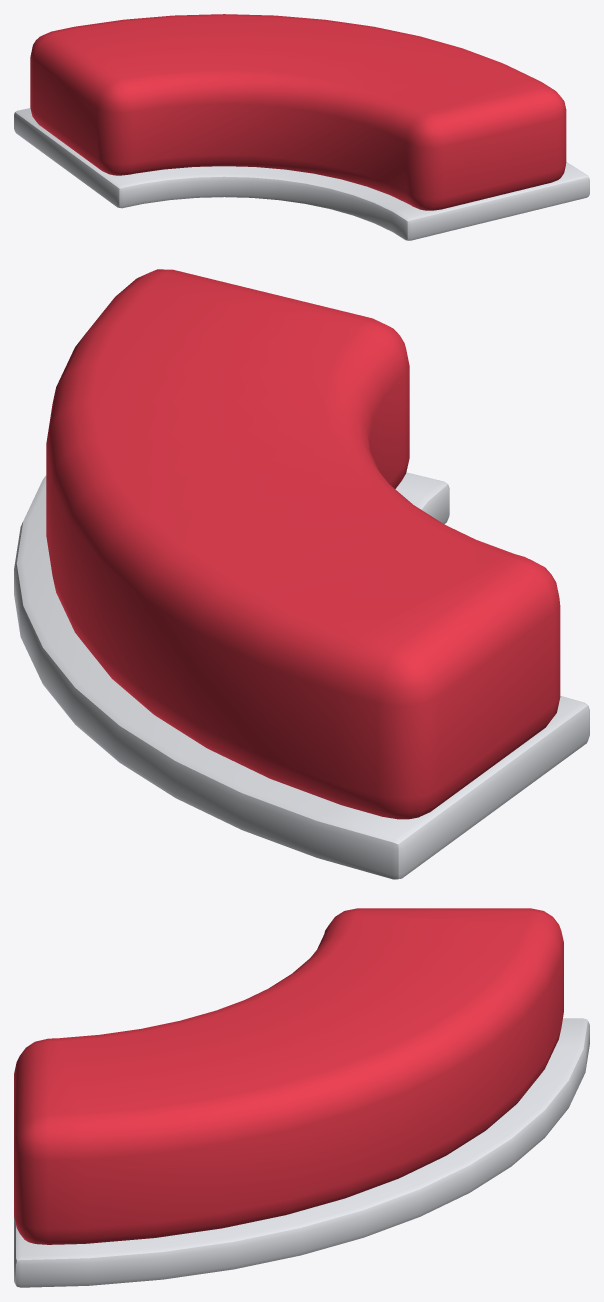
File: SD_WaterEdge_Corner.fbx
The picture shows the model from 3 angles, top to bottom: view 1: azimuth 30°, elevation 25°; view 2: azimuth 150°, elevation 25°; view 3: azimuth 270°, elevation 25°; orthographic projection. The views are drawn at different scales.
Visible parts, largest first — view 1: WaterEdge_Corner; view 2: WaterEdge_Corner; view 3: WaterEdge_Corner.
Part boxes in pixels (x1,y1,x2,y2): WaterEdge_Corner: (14, 14, 589, 240); WaterEdge_Corner: (14, 269, 589, 879); WaterEdge_Corner: (14, 908, 589, 1287).
Size of the model in its own units: 1.67 by 0.48 by 1.67.
